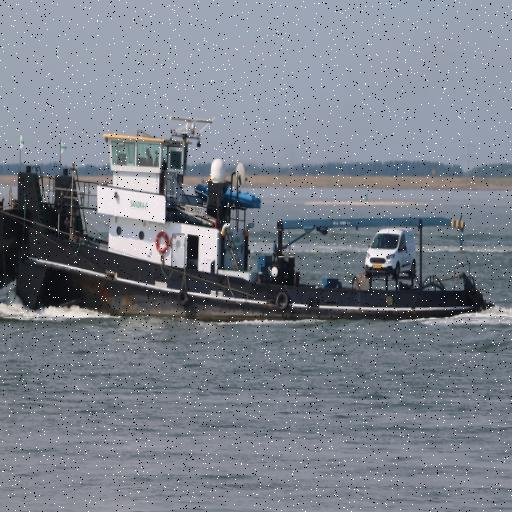tugboat: (8, 114, 500, 330)
